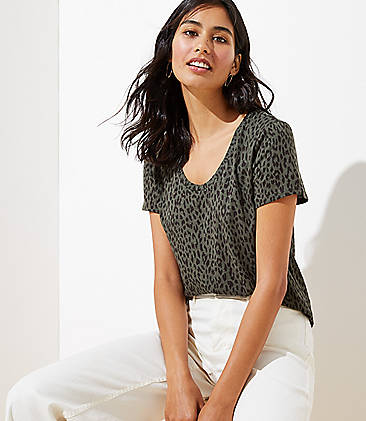C_short blouse: (141, 107, 321, 327)
